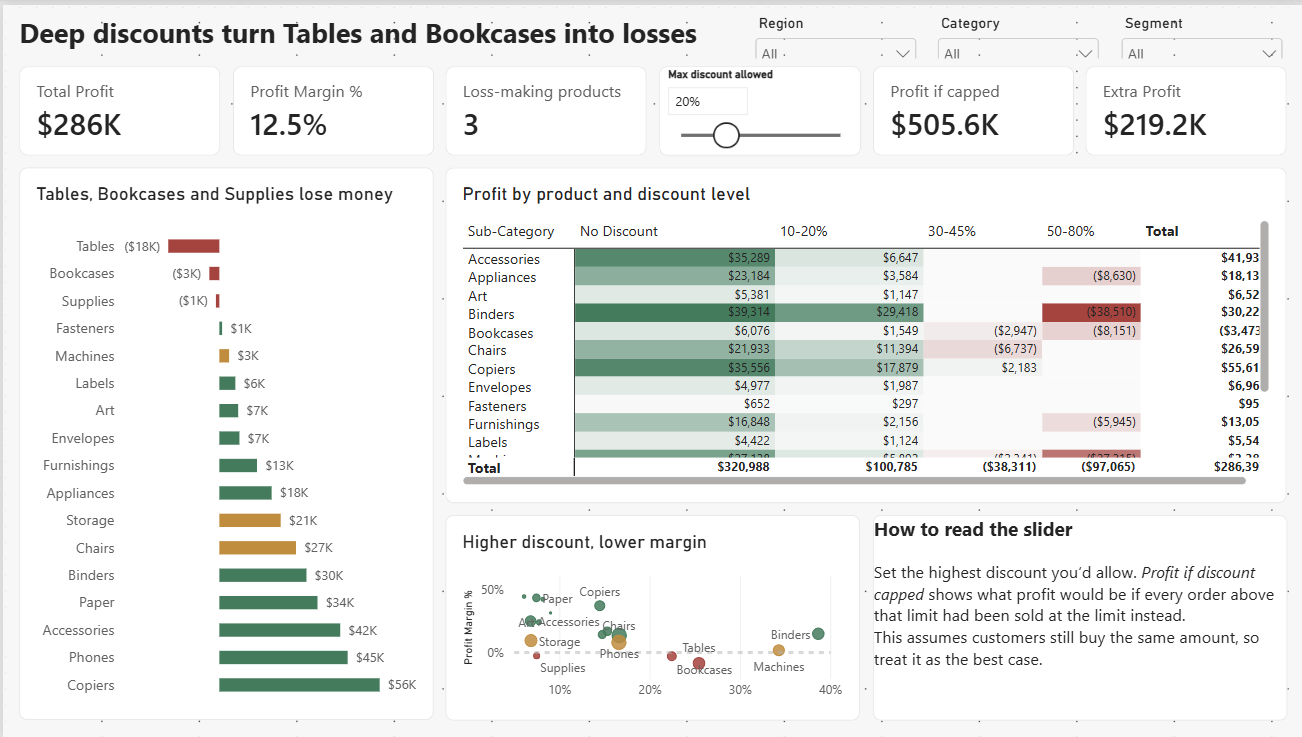

What the dashboard file says about the page in this screenshot:
{"tool":"powerbi","page":{"name":"Profitability","canvas":[1280,720],"ordinal":1},"visuals":[{"type":"textbox","box":[16,8,700,44],"z":0},{"type":"slicer","fields":{"Values":["Superstore.Category"]},"box":[916,8,168,44],"z":1000},{"type":"slicer","fields":{"Values":["Superstore.Region"]},"box":[736,8,168,44],"z":2000},{"type":"slicer","fields":{"Values":["Superstore.Segment"]},"box":[1096,8,168,44],"z":3000},{"type":"cardVisual","fields":{"Data":["_Measures.Total Profit"]},"box":[16,60,198,88],"z":4000},{"type":"cardVisual","fields":{"Data":["_Measures.Profit Margin %"]},"box":[226,60,198,88],"z":5000},{"type":"cardVisual","fields":{"Data":["_Measures.Loss-making Sub-Categories"]},"box":[436,60,198,88],"z":6000},{"type":"cardVisual","fields":{"Data":["_Measures.Profit Uplift"]},"box":[1066,60,198,88],"z":7000},{"type":"cardVisual","fields":{"Data":["_Measures.Simulated Profit"]},"box":[856,60,198,88],"z":8000},{"type":"slicer","fields":{"Values":["Discount Cap.Discount Cap"]},"box":[646,60,198,88],"z":9000},{"type":"clusteredBarChart","title":"Tables, Bookcases and Supplies lose money","fields":{"Category":["Superstore.Sub-Category"],"Y":["_Measures.Total Profit"]},"box":[16,160,408,544],"z":10000},{"type":"pivotTable","title":"Profit by product and discount level","fields":{"Columns":["Superstore.Discount Band"],"Rows":["Superstore.Sub-Category"],"Values":["_Measures.Total Profit"]},"box":[436,160,828,330],"z":11000},{"type":"scatterChart","title":"Higher discount, lower margin","fields":{"Category":["Superstore.Sub-Category"],"Size":["_Measures.Total Sales"],"X":["_Measures.Weighted Discount %"],"Y":["_Measures.Profit Margin %"]},"box":[436,502,408,202],"z":12000},{"type":"textbox","box":[856,502,408,202],"z":13000}]}

Visuals, with their boxes in screenshot pixels (x1, y1, x2, y2), scaled from the page's 1280x720 canvas onto the 1302x737 screenshot:
textbox: select_region(16, 8, 728, 53)
slicer - Superstore.Category: select_region(932, 8, 1103, 53)
slicer - Superstore.Region: select_region(749, 8, 920, 53)
slicer - Superstore.Segment: select_region(1115, 8, 1286, 53)
cardVisual - _Measures.Total Profit: select_region(16, 61, 218, 151)
cardVisual - _Measures.Profit Margin %: select_region(230, 61, 431, 151)
cardVisual - _Measures.Loss-making Sub-Categories: select_region(443, 61, 645, 151)
cardVisual - _Measures.Profit Uplift: select_region(1084, 61, 1286, 151)
cardVisual - _Measures.Simulated Profit: select_region(871, 61, 1072, 151)
slicer - Discount Cap.Discount Cap: select_region(657, 61, 859, 151)
"Tables, Bookcases and Supplies lose money" clusteredBarChart: select_region(16, 164, 431, 721)
"Profit by product and discount level" pivotTable: select_region(443, 164, 1286, 502)
"Higher discount, lower margin" scatterChart: select_region(443, 514, 859, 721)
textbox: select_region(871, 514, 1286, 721)
